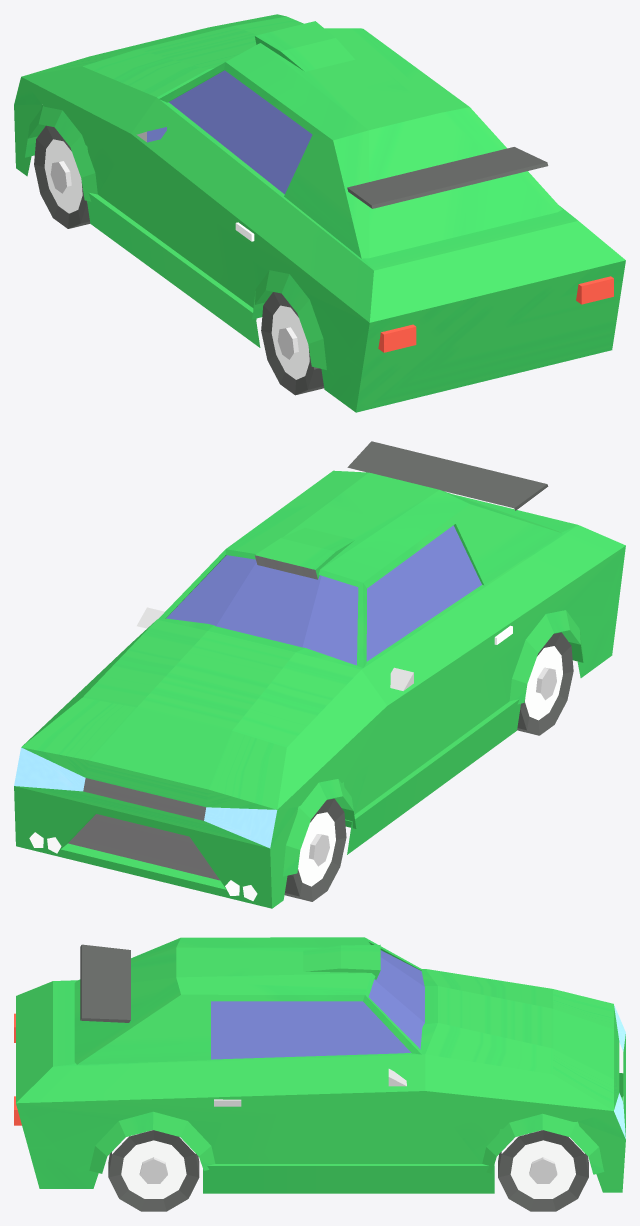
The model's file is transport_sport.009.glb.
3 views of the same model, one above another, from view 1: azimuth 30°, elevation 25°; view 2: azimuth 150°, elevation 25°; view 3: azimuth 270°, elevation 25° (orthographic). The views are drawn at different scales.
Visible parts, largest first — view 1: transport_sport.009(Clone); view 2: transport_sport.009(Clone); view 3: transport_sport.009(Clone).
Boxes of the visible parts, left/top/right/bottom form: transport_sport.009(Clone): left=14, top=14, right=625, bottom=412; transport_sport.009(Clone): left=14, top=441, right=625, bottom=908; transport_sport.009(Clone): left=14, top=937, right=625, bottom=1211.
Bounding box in the file's own units: 1.57 × 1.29 × 3.57.
Materials: 1 (1 with a texture image).
